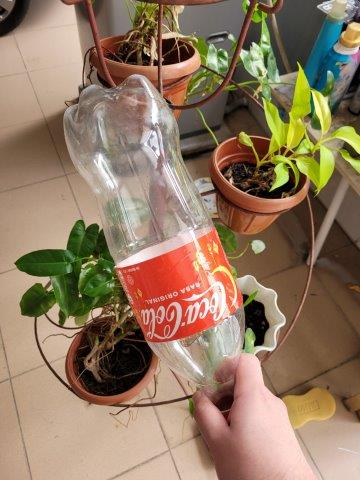botolplastik: (62, 74, 243, 400)
